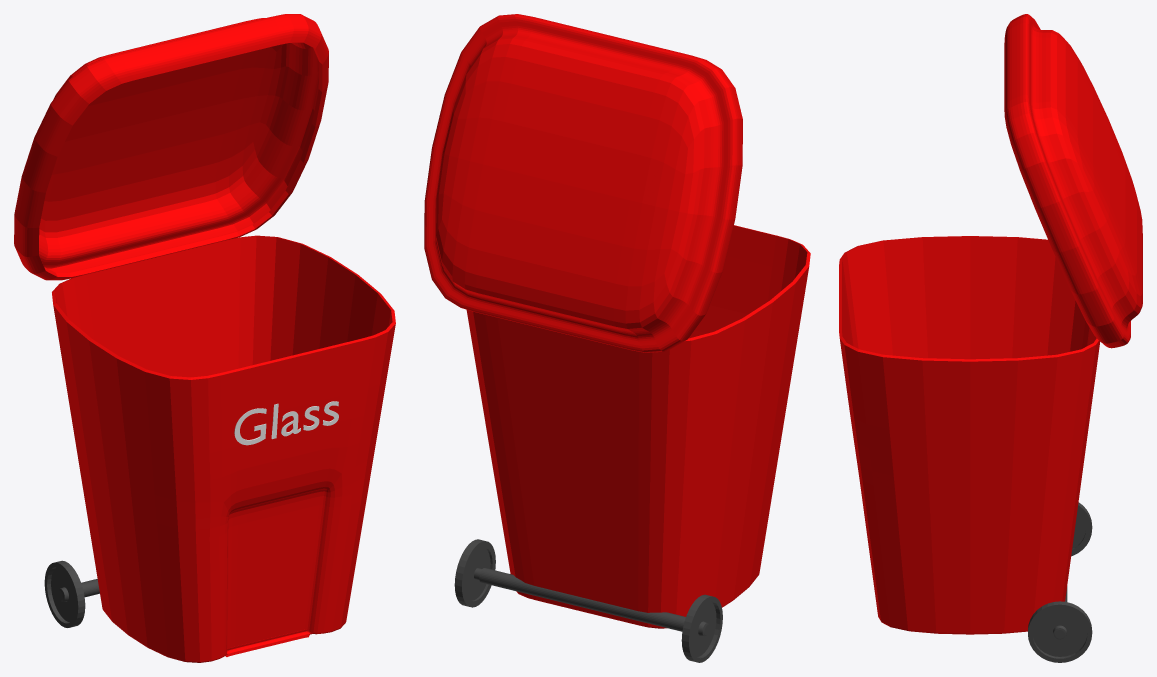
Rendered from Recycling_Glass_Bin.fbx.
3 views of the same model, side by side, from view 1: azimuth 30°, elevation 25°; view 2: azimuth 150°, elevation 25°; view 3: azimuth 270°, elevation 25° (orthographic). The views are drawn at different scales.
Parts seen in each view (by area): view 1: Cube, Cube.001, Cylinder.001, Text; view 2: Cube.001, Cube, Cylinder.001, Cylinder; view 3: Cube, Cube.001, Cylinder.001.
Boxes of the visible parts, x1,y1,x2,y2 form: Cube: [52, 235, 395, 662]; Cube.001: [14, 14, 328, 280]; Cylinder.001: [44, 560, 85, 627]; Text: [234, 401, 338, 445]; Cube.001: [424, 14, 742, 352]; Cube: [466, 225, 810, 628]; Cylinder.001: [454, 539, 722, 662]; Cylinder: [479, 568, 685, 631]; Cube: [839, 236, 1100, 634]; Cube.001: [1004, 14, 1142, 348]; Cylinder.001: [1028, 502, 1092, 662].
Bounding box in the file's own units: 184 × 345 × 173.
